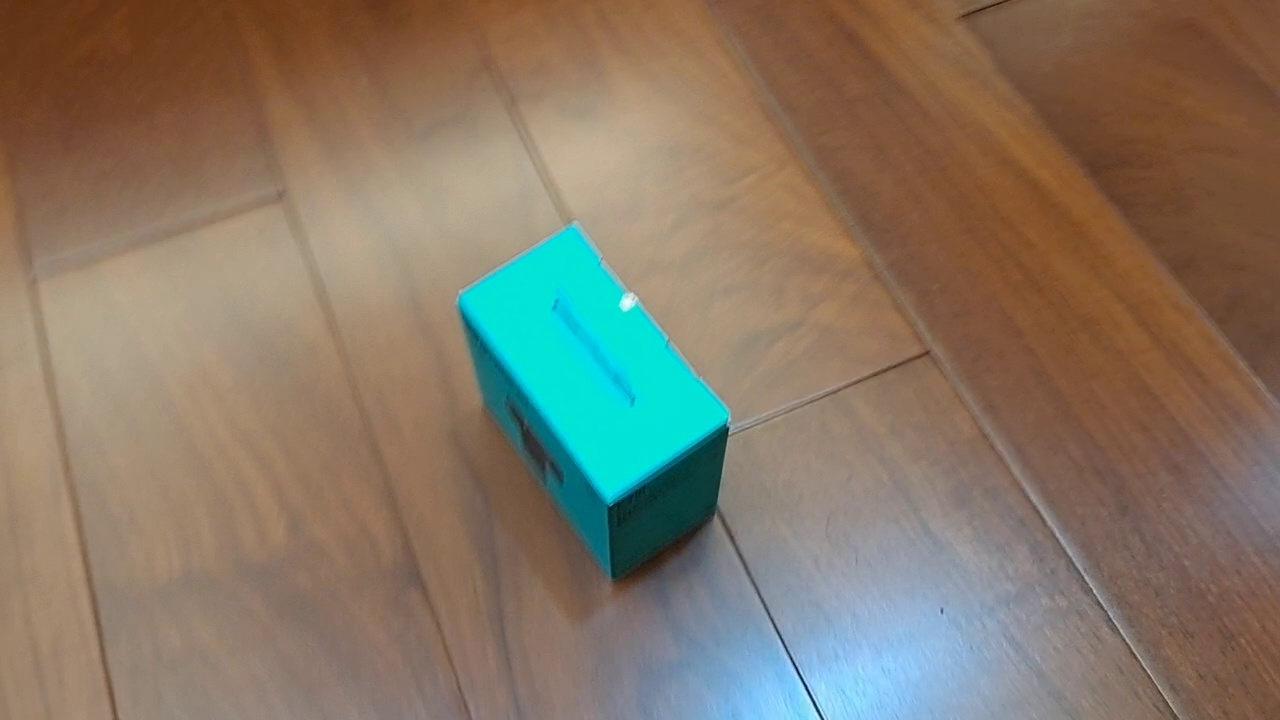webcam: (455, 219, 734, 584)
